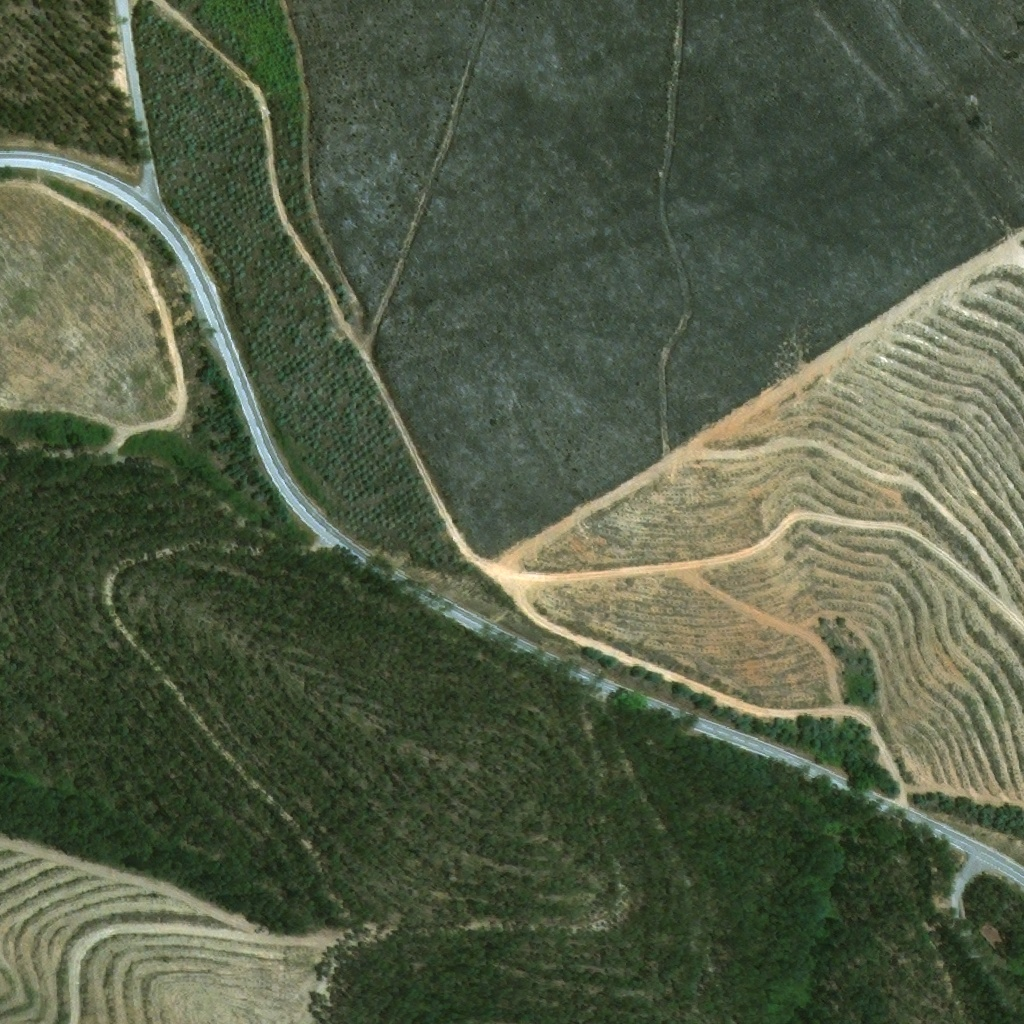0 no-damage: (979, 917, 1010, 951)
